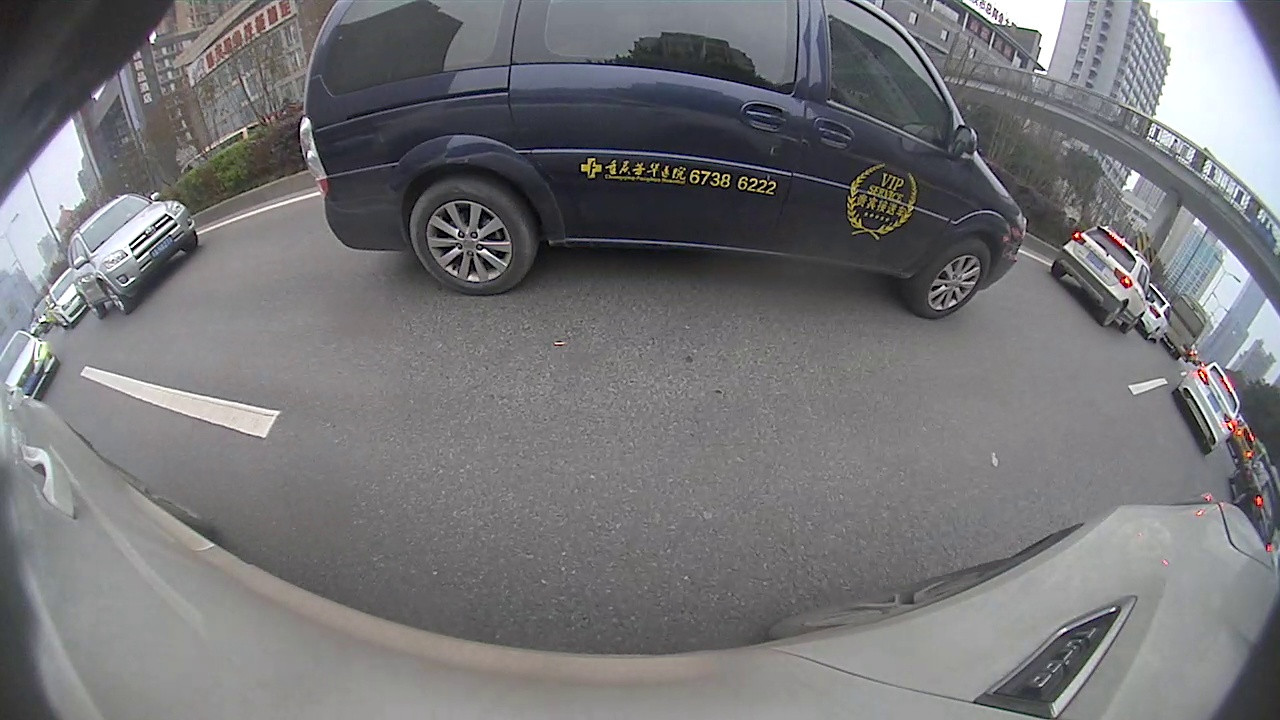car: (297, 3, 1027, 318), (68, 187, 200, 321), (1050, 221, 1156, 334), (1170, 362, 1243, 456)
front: (909, 241, 993, 317), (99, 280, 130, 314)
rear: (409, 180, 535, 296)
